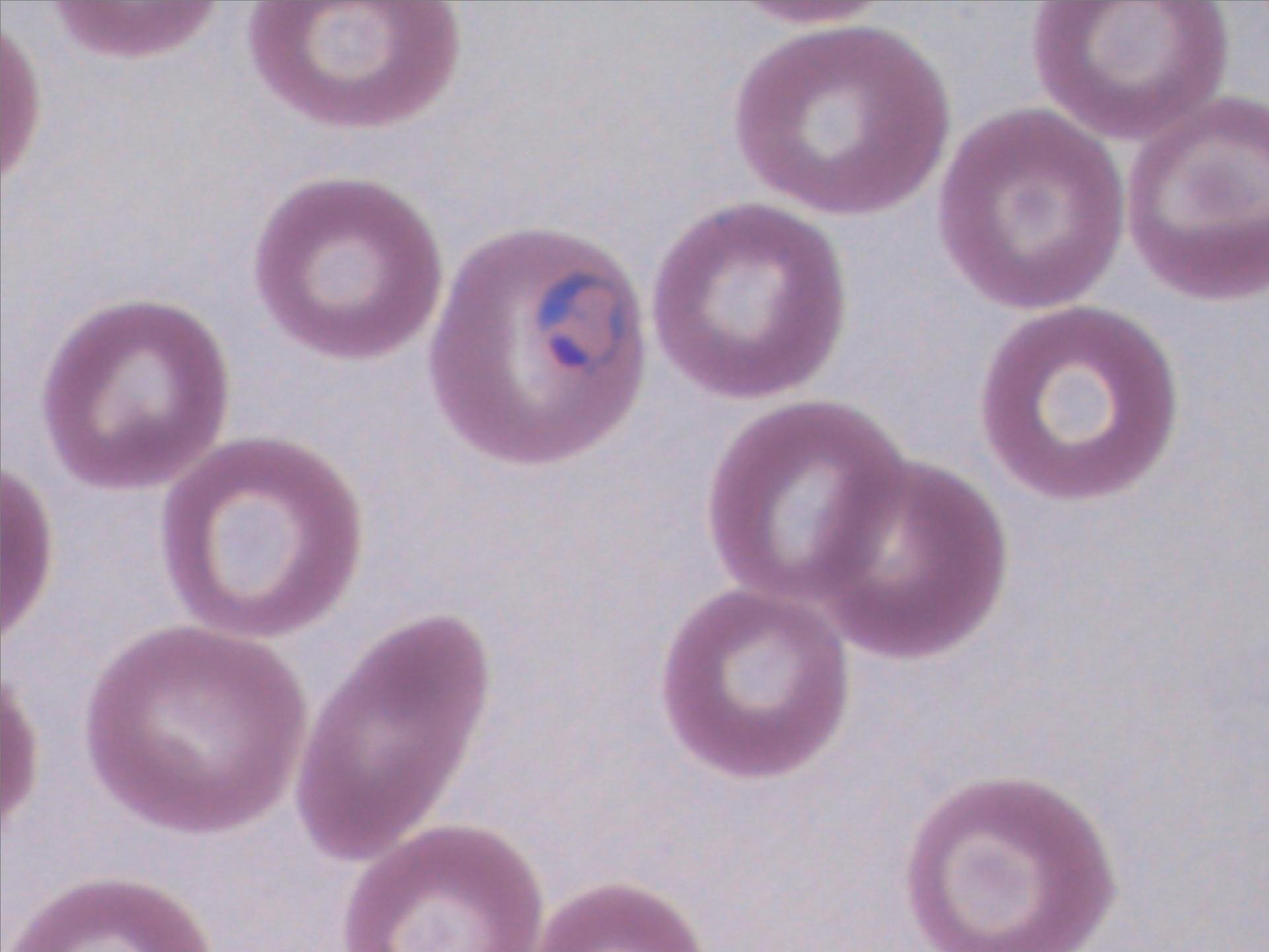Infected: (438, 232, 643, 463)
Uninfected: (304, 615, 482, 859), (86, 628, 297, 832), (714, 397, 909, 605), (740, 23, 947, 216), (943, 104, 1122, 316), (163, 435, 354, 633), (820, 461, 1006, 663), (657, 201, 843, 395), (987, 309, 1175, 500), (912, 776, 1116, 952), (48, 300, 228, 491), (258, 179, 442, 359), (665, 589, 845, 771), (1033, 0, 1228, 147), (1132, 98, 1269, 295), (253, 0, 458, 125), (348, 827, 542, 952)
